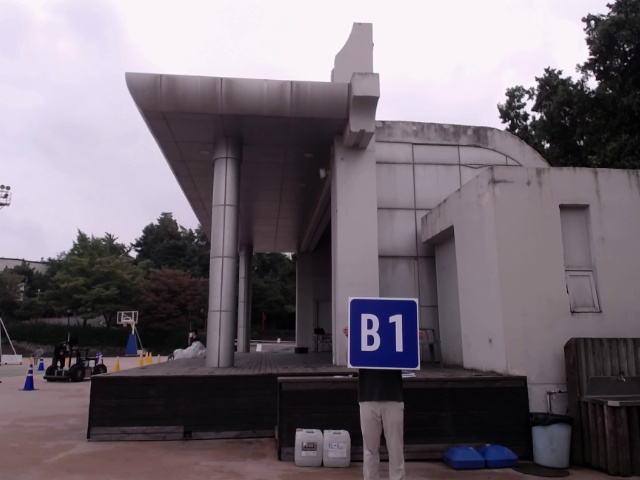delivery_b1: (349, 297, 420, 370)
